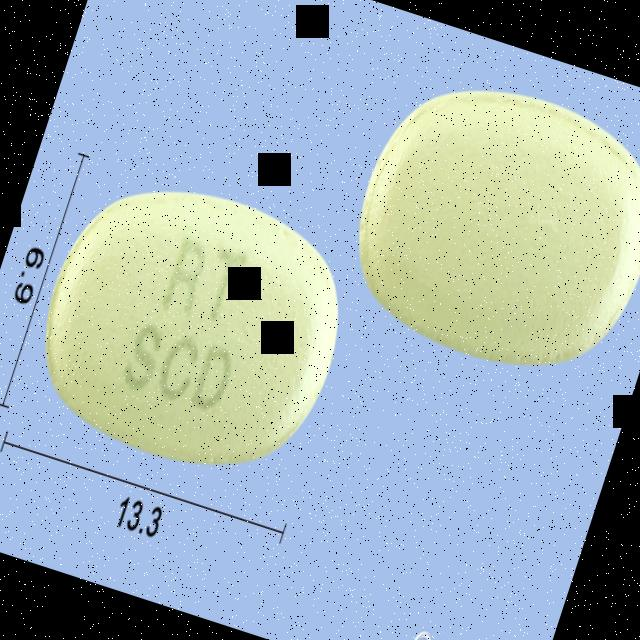Retos Tab: (16, 155, 370, 492)
